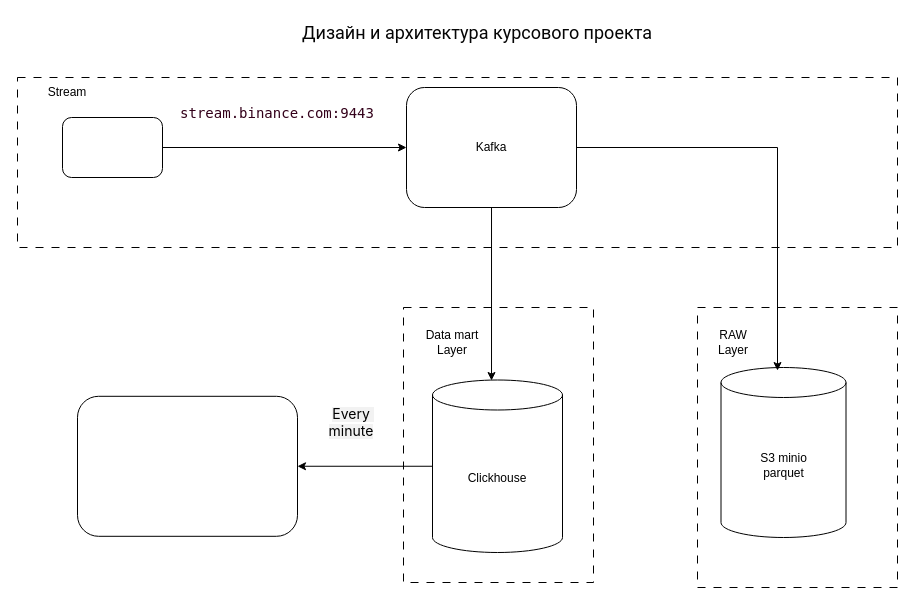
Some shapes in this 915 by 605 pixel diagram are drawn without their labels. Here are the shapes that lost their labels. From the top down, the box of each, then its label:
(62, 116, 162, 178): Producer websocket
(76, 395, 298, 536): BI Streamlit)
